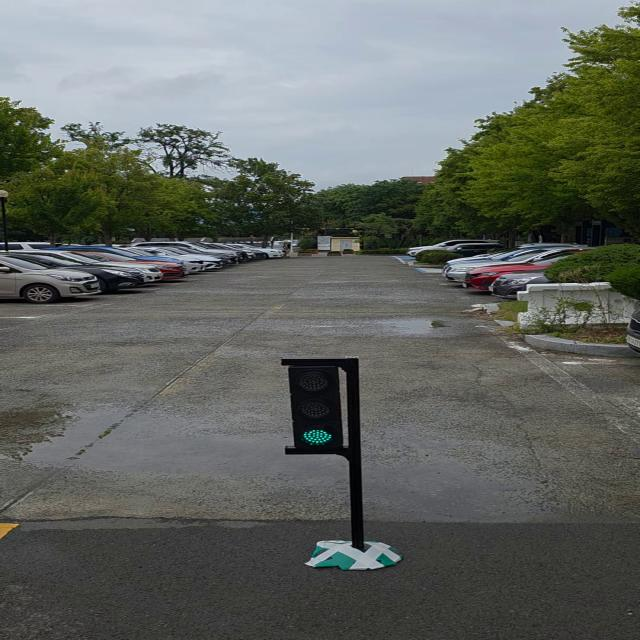green: (287, 357, 358, 455)
